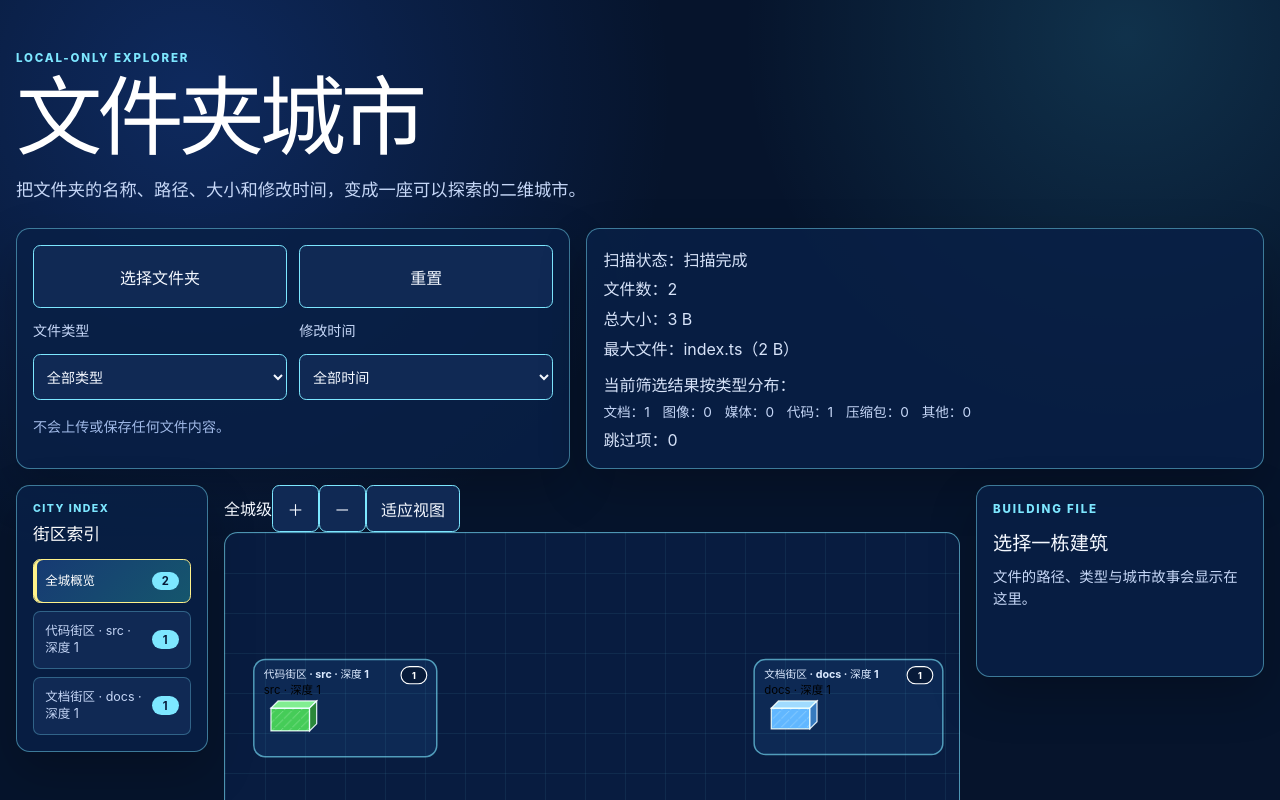
Test: returns to the full city when filtering removes the active district
Click the button with aria-label "代码街区 · src · 深度 1，共 1 个文件" at (112, 640), box [33,610,191,669]
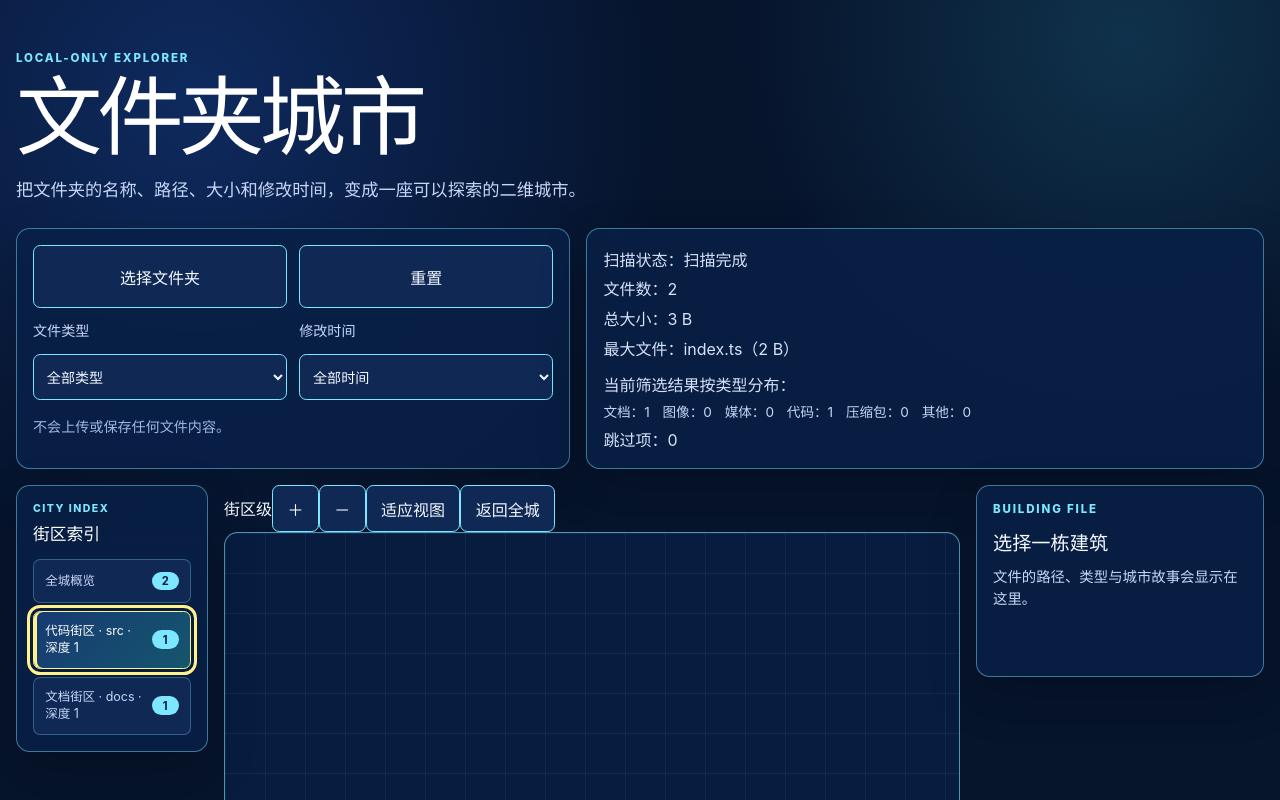
Select "文档" in the dropdown labelled "文件类型" at (160, 377), box [33,354,287,400]
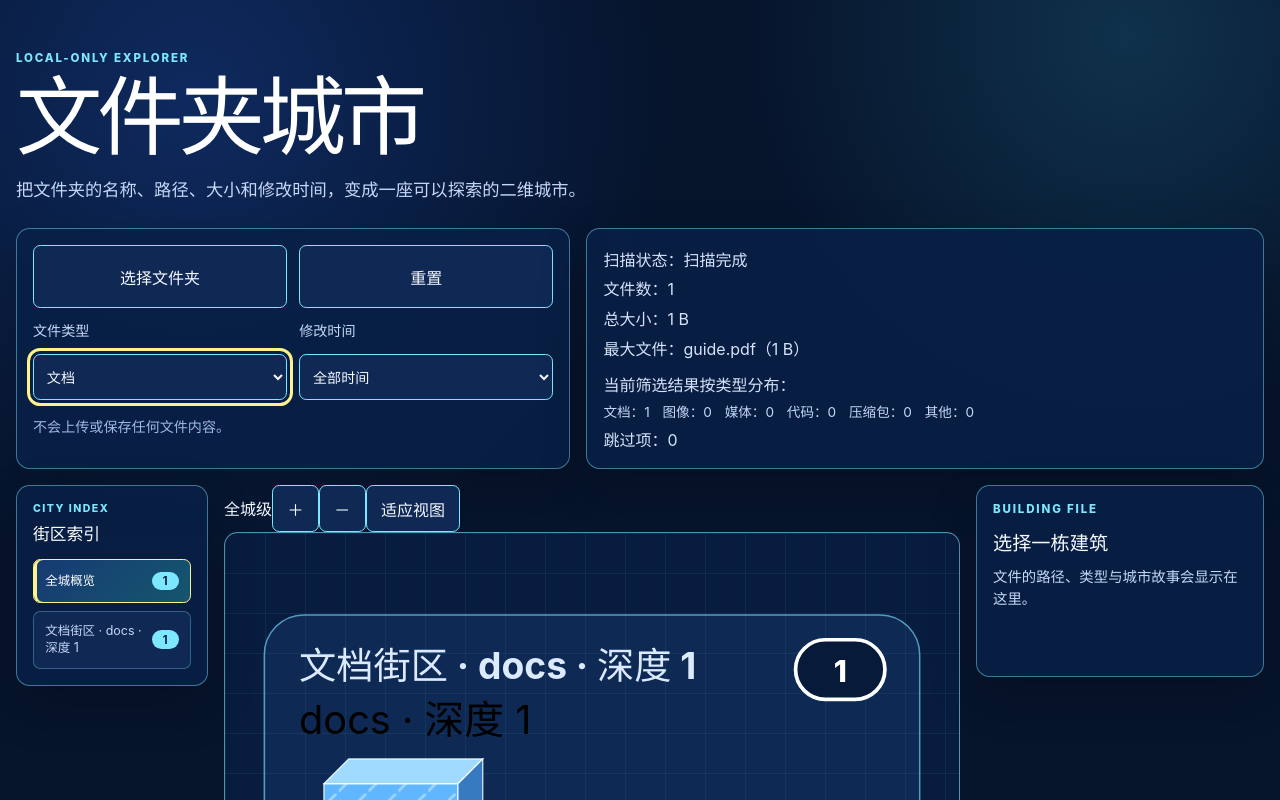
Now the navigation bar named "城市地图控制" shows "全城级", box [224,500,272,520]
